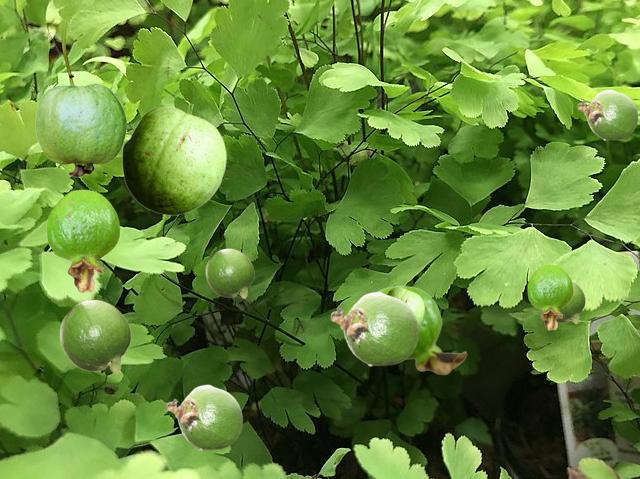guava: (122, 106, 225, 214), (35, 83, 126, 176), (378, 285, 466, 374), (46, 189, 119, 292), (330, 291, 418, 365), (59, 299, 130, 373), (166, 384, 242, 449), (577, 89, 637, 139), (527, 264, 572, 329), (205, 248, 253, 298), (387, 287, 423, 325), (557, 281, 584, 323)
